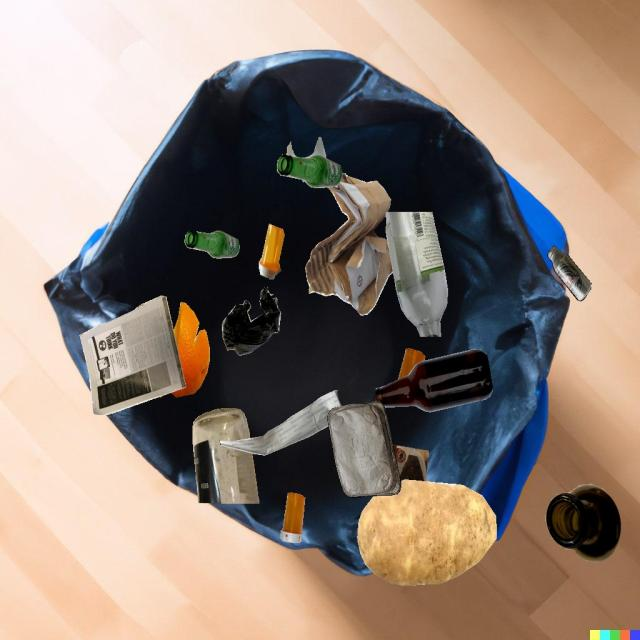biowaste: (357, 479, 497, 586), (171, 302, 210, 397)
cardboard: (305, 173, 393, 315), (393, 445, 429, 481)
glass: (385, 212, 448, 337), (376, 349, 493, 412), (192, 408, 259, 504), (546, 484, 622, 562), (277, 155, 343, 188), (184, 230, 240, 258), (292, 148, 324, 180)
metal: (328, 401, 401, 498), (547, 246, 591, 301)
paper: (80, 296, 186, 416), (220, 390, 342, 455)
plastic: (222, 287, 281, 355), (259, 224, 284, 279), (280, 492, 305, 543), (398, 348, 425, 380)
